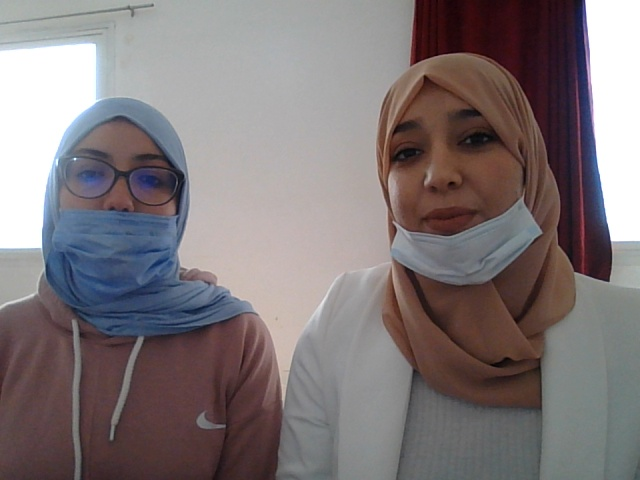mask_weared_incorrect: (368, 53, 567, 294), (43, 85, 206, 329)
